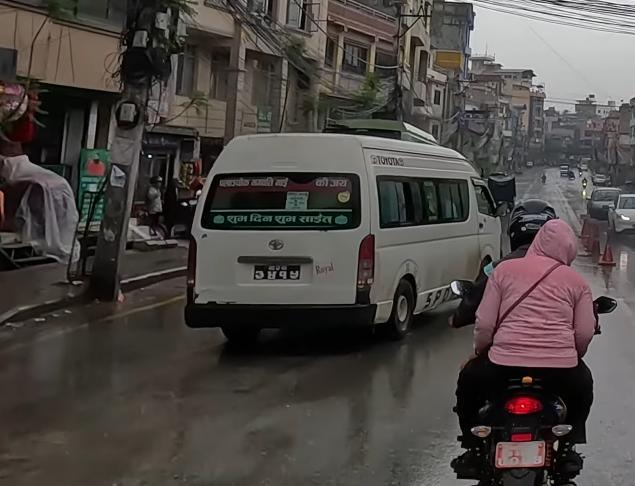bike: (448, 274, 621, 486)
car: (607, 191, 635, 241)
micro_bus: (173, 116, 511, 353)
